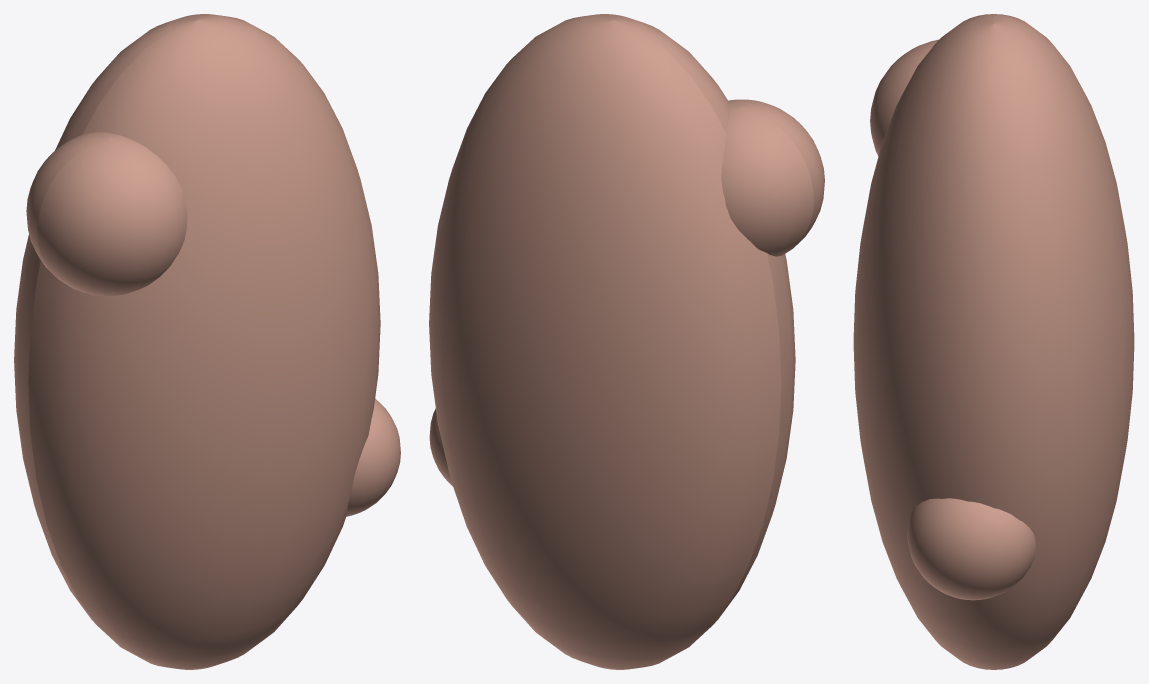
Rendered from ovary.glb.
3 views of the same model, side by side, from view 1: azimuth 30°, elevation 25°; view 2: azimuth 150°, elevation 25°; view 3: azimuth 270°, elevation 25° (orthographic).
Bounding box in the file's own units: 2.26 × 3.8 × 1.52.
